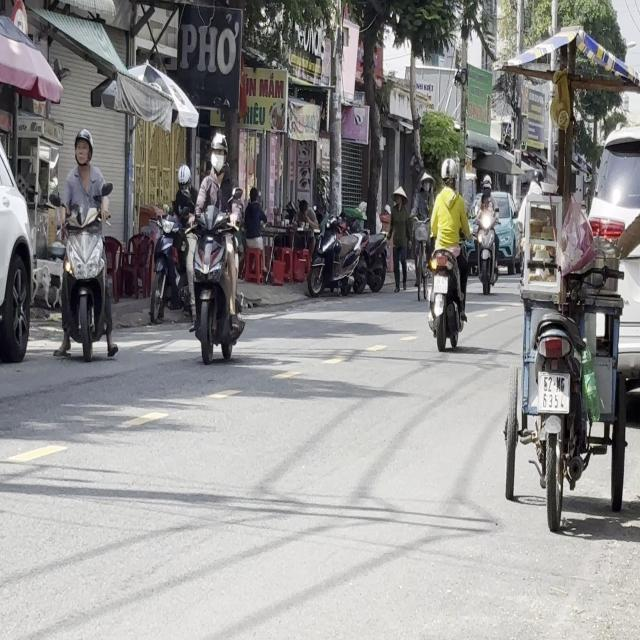helmet: (73, 128, 93, 168), (209, 132, 228, 174), (439, 156, 458, 189)
licenseplate: (53, 126, 118, 361), (188, 130, 246, 364), (425, 156, 471, 352)
nohelmet: (538, 372, 569, 412), (433, 276, 448, 294)
